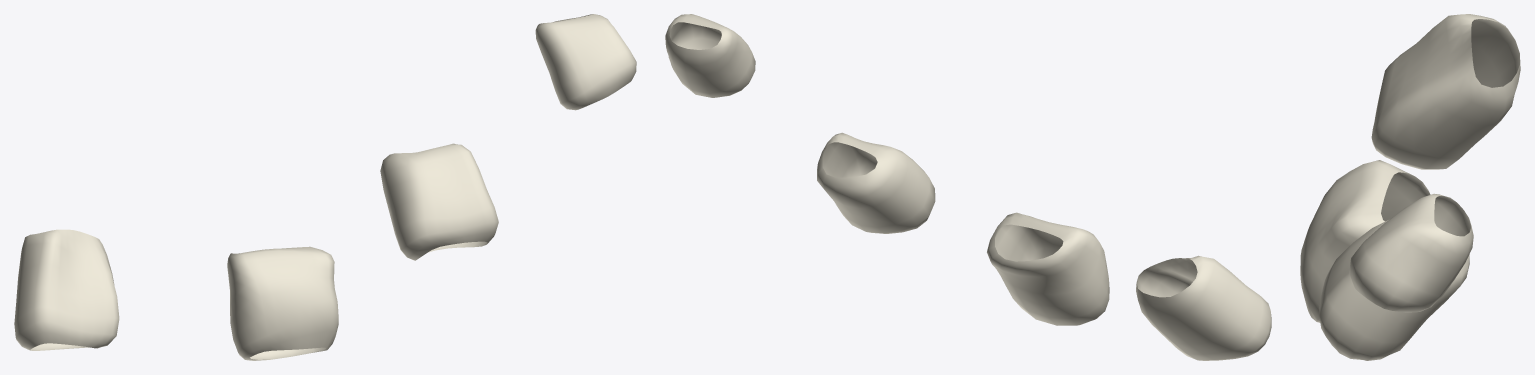
3 renders of one model, left to right at view 1: azimuth 30°, elevation 25°; view 2: azimuth 150°, elevation 25°; view 3: azimuth 270°, elevation 25°, orthographic. The views are drawn at different scales.
Parts seen in each view (by area): view 1: ZA_4eae4ade294d7f06; view 2: ZA_4eae4ade294d7f06; view 3: ZA_4eae4ade294d7f06.
Boxes of the visible parts, bbox=[...] form: ZA_4eae4ade294d7f06: bbox=[14, 14, 636, 360]; ZA_4eae4ade294d7f06: bbox=[665, 14, 1271, 360]; ZA_4eae4ade294d7f06: bbox=[1300, 14, 1520, 360].
Bounding box in the file's own units: 0.0887 × 0.0338 × 0.0216.
